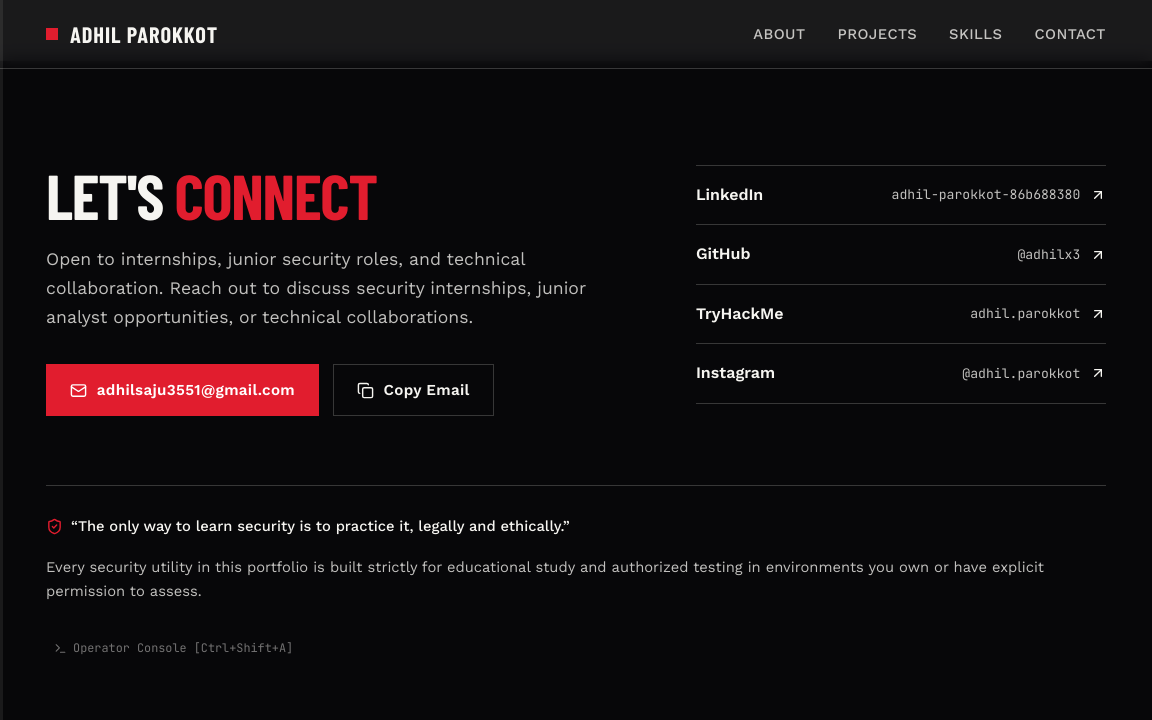
it: Adhil Parokkot Portfolio App › opens Operator Console when footer button is clicked
This screenshot has width=1152, height=720.
(page scrolled)
What coordinates should you click on to do the following:
click the button "Operator Console [Ctrl+Shift+A]"
I would click on:
 (174, 649)
Its box is top-left (46, 635), bottom-right (301, 663).
(page scrolled)
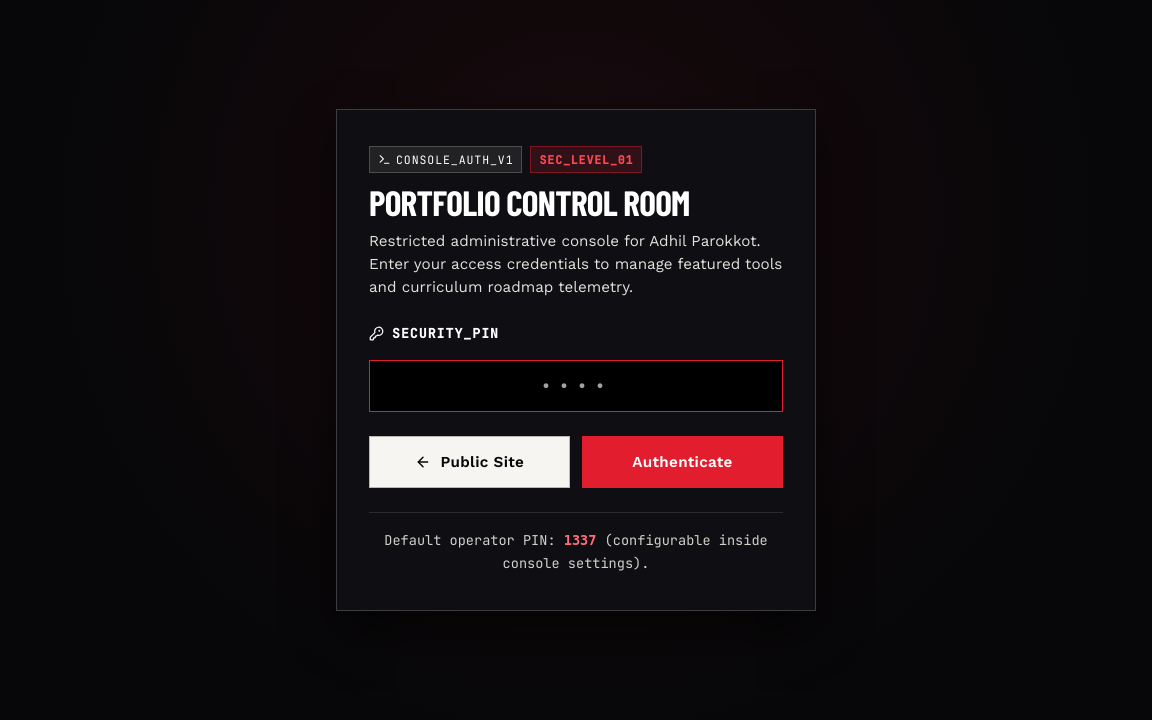
Expected: the heading "Portfolio Control Room" is shown, top-left (369, 181), bottom-right (690, 223)
